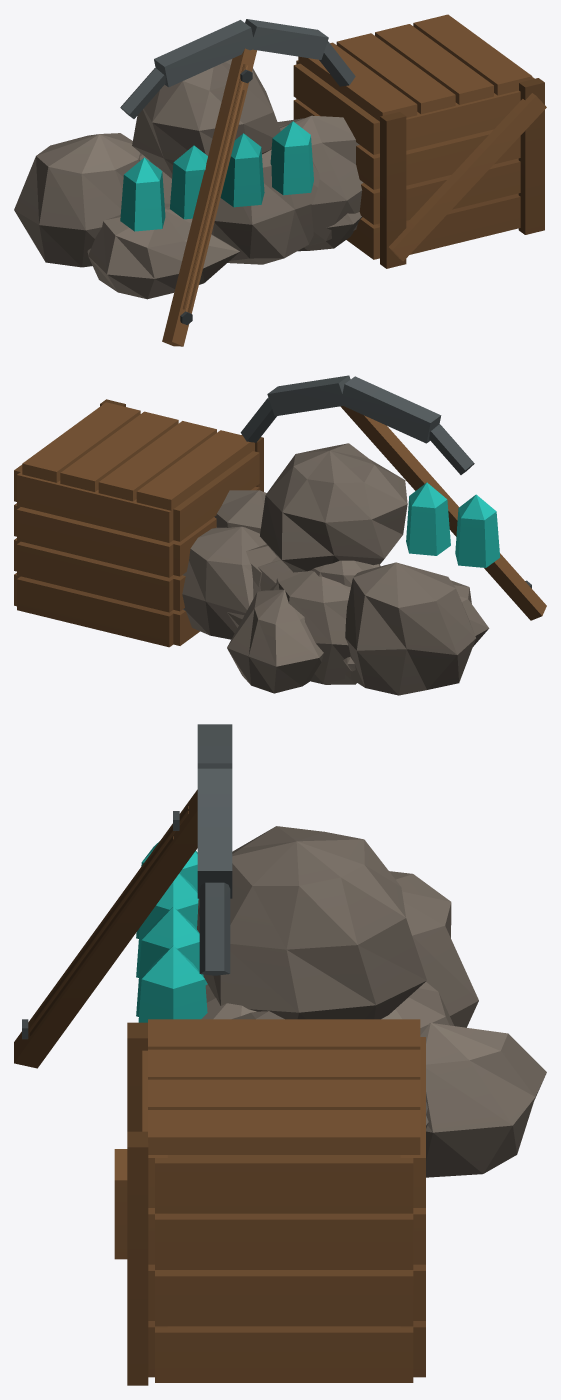
Rendered from mine_orepile.glb.
3 views of the same model, one above another, from view 1: azimuth 30°, elevation 25°; view 2: azimuth 150°, elevation 25°; view 3: azimuth 270°, elevation 25° (orthographic). The views are drawn at different scales.
Parts seen in each view (by area): view 1: mine_orepile; view 2: mine_orepile; view 3: mine_orepile.
Boxes of the visible parts, box(x1,y1,x2,y2) form: mine_orepile: box(14, 14, 546, 346); mine_orepile: box(14, 375, 546, 695); mine_orepile: box(14, 724, 546, 1385).
Size of the model in its own units: 1.8 by 0.9817 by 1.16.
